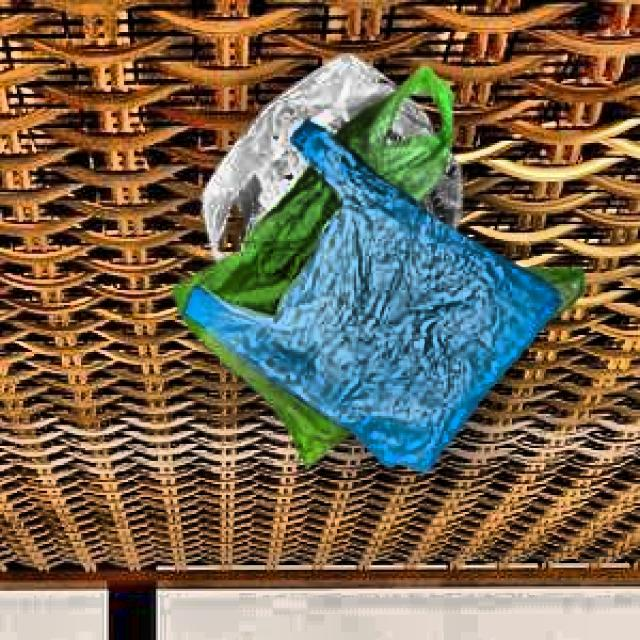Plastic: (159, 118, 578, 495)
